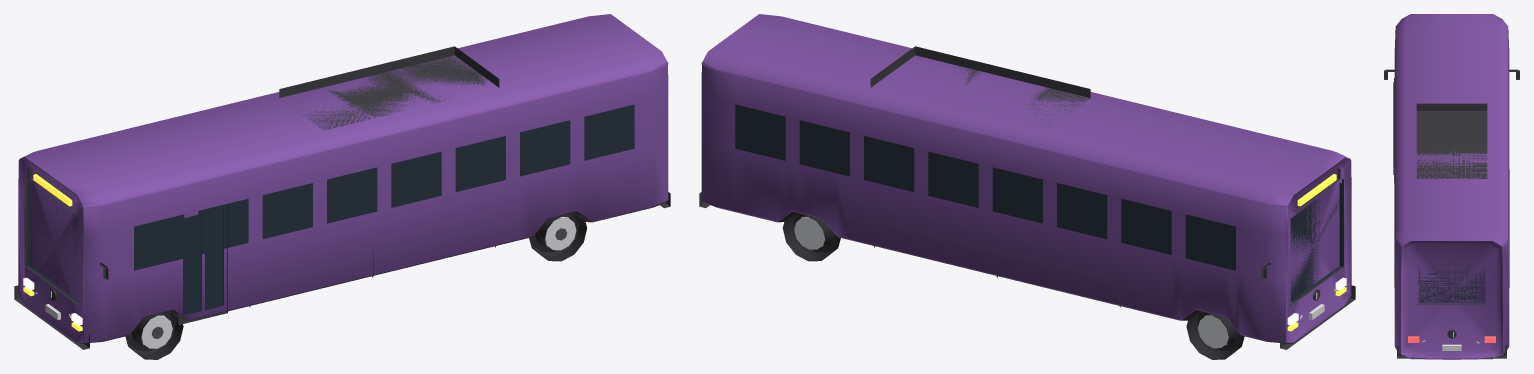
File: bus_voyage.glb
3 views of the same model, side by side, from view 1: azimuth 30°, elevation 25°; view 2: azimuth 150°, elevation 25°; view 3: azimuth 270°, elevation 25° (orthographic). The views are drawn at different scales.
Bounding box in the file's own units: 1.9 × 0.5736 × 0.4791.
